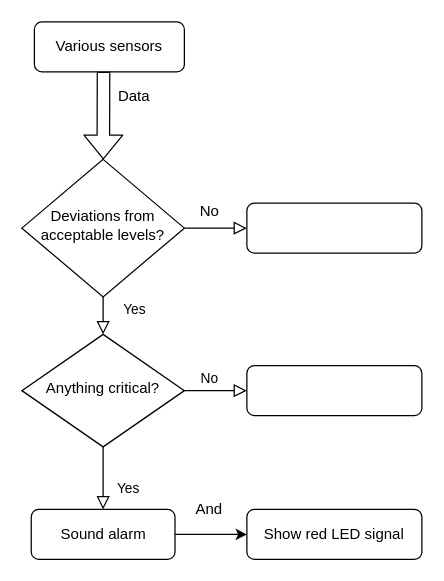
Image size: 444x581. Some labels were removed from this diagram. The centre of each missing label's shape, as x and y in pixels:
"Show green LED signal" belongs at pixel 334 227.
"Show yellow LED signal" belongs at pixel 334 390.
